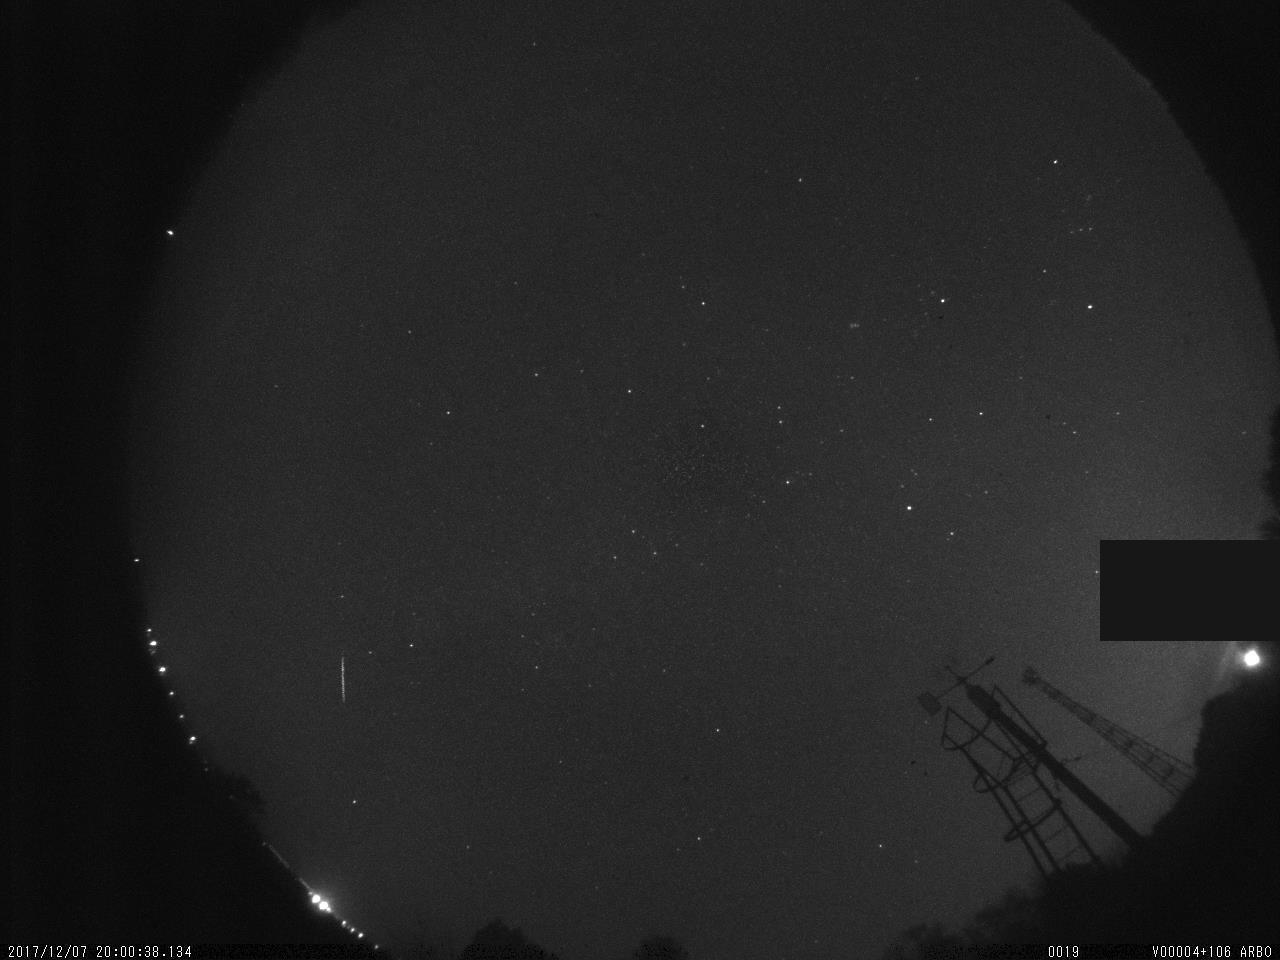Meteor: (333, 650, 351, 712)
